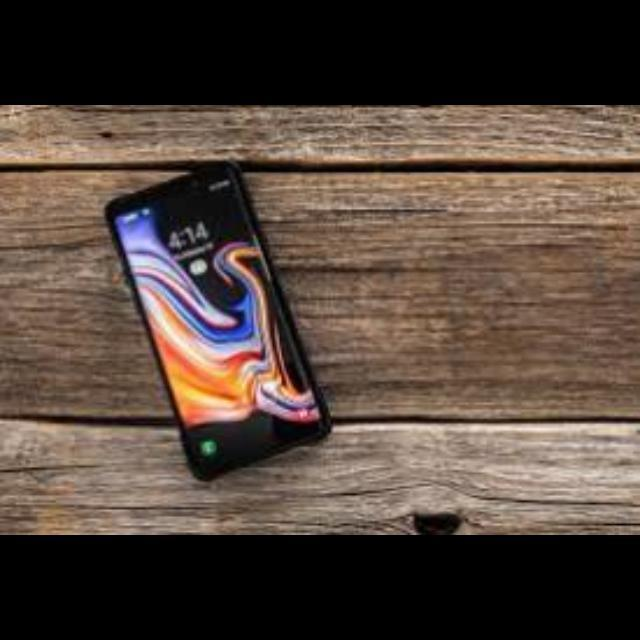phone: (67, 156, 361, 498)
